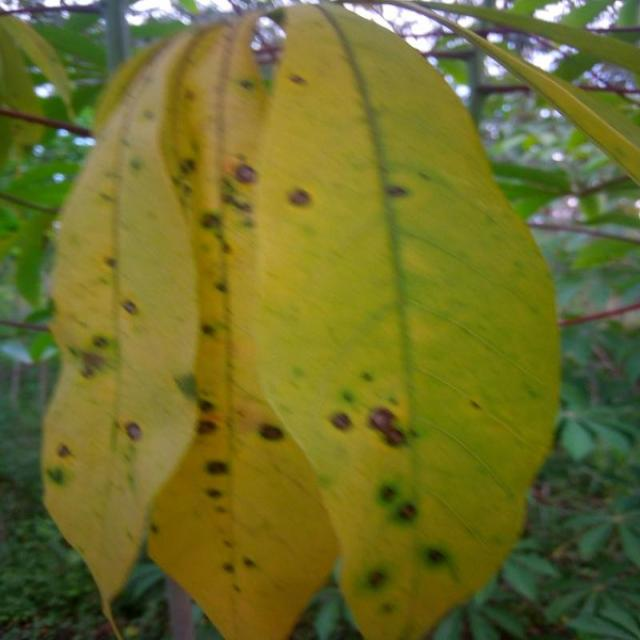cassava leaf: (40, 1, 562, 638)
